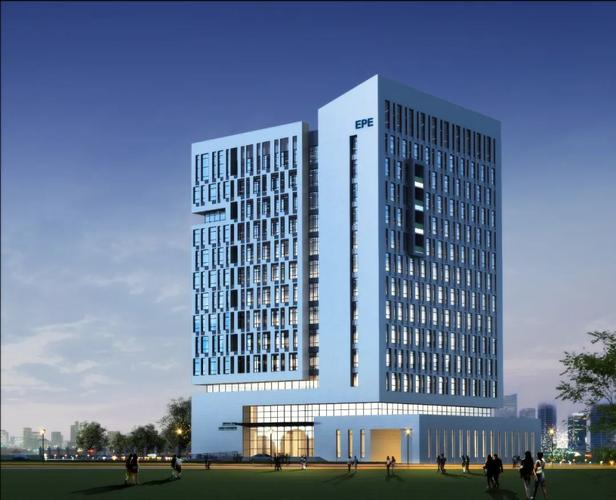buildings: (160, 77, 550, 442)
